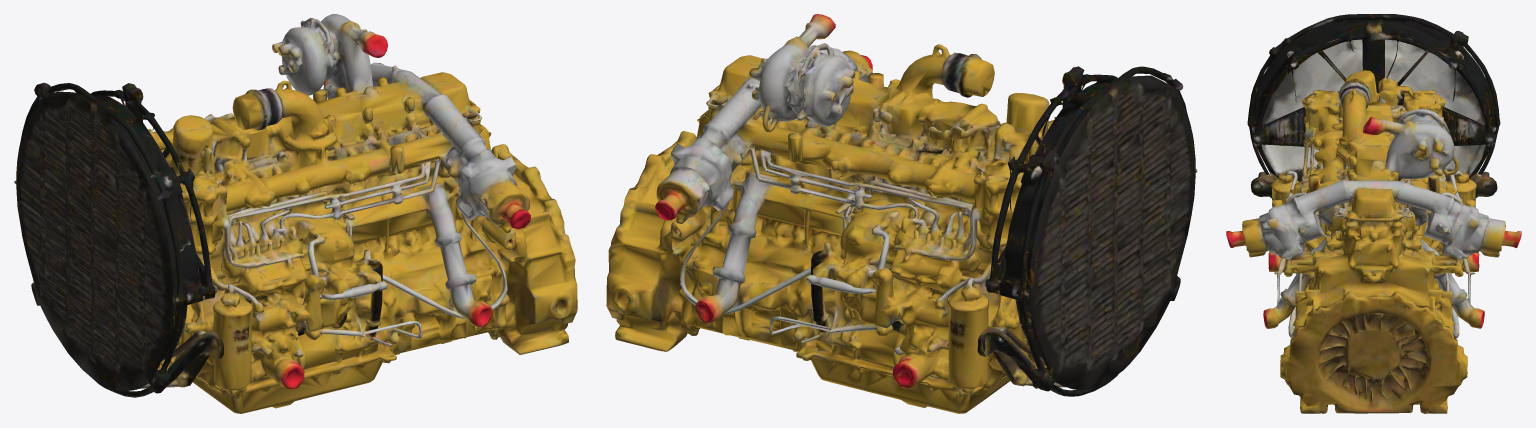
Rendered from motor-caterpillar-3066.glb.
The picture shows the model from 3 angles, left to right: view 1: azimuth 30°, elevation 25°; view 2: azimuth 150°, elevation 25°; view 3: azimuth 270°, elevation 25°; orthographic projection. The views are drawn at different scales.
Size of the model in its own units: 1.9 by 1.36 by 1.46.
Materials: 1 (1 with a texture image).
